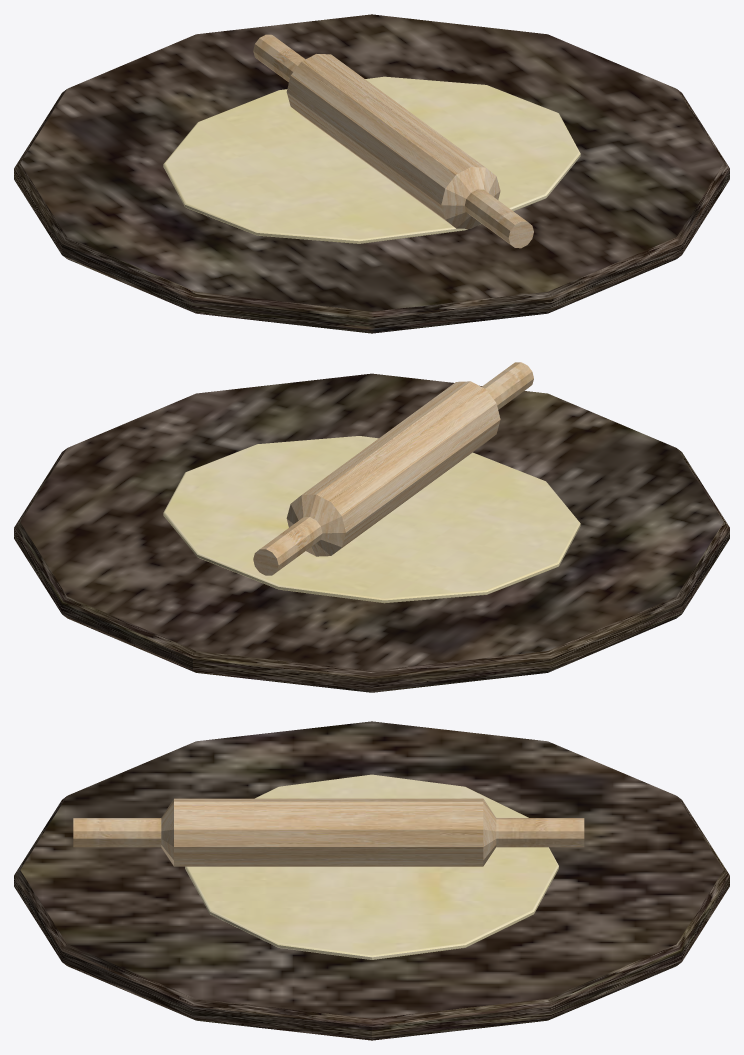
Rendered from roti with stick.fbx.
The picture shows the model from 3 angles, top to bottom: view 1: azimuth 30°, elevation 25°; view 2: azimuth 150°, elevation 25°; view 3: azimuth 270°, elevation 25°; orthographic projection.
Parts seen in each view (by area): view 1: pCylinder1, pCylinder2, pCylinder3; view 2: pCylinder1, pCylinder2, pCylinder3; view 3: pCylinder1, pCylinder2, pCylinder3.
Boxes of the visible parts, x1=… form: pCylinder1: x1=14, y1=14, x2=729, y2=333; pCylinder2: x1=163, y1=76, x2=580, y2=243; pCylinder3: x1=253, y1=34, x2=533, y2=248; pCylinder1: x1=14, y1=373, x2=729, y2=692; pCylinder2: x1=163, y1=436, x2=580, y2=603; pCylinder3: x1=253, y1=362, x2=533, y2=575; pCylinder1: x1=14, y1=721, x2=729, y2=1040; pCylinder2: x1=185, y1=774, x2=558, y2=959; pCylinder3: x1=73, y1=798, x2=584, y2=866.
Bounding box in the file's own units: 63.78 × 8.88 × 63.78.
